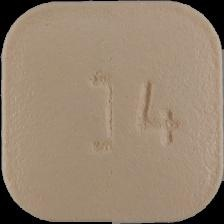31722-726: (0, 0, 224, 224)
